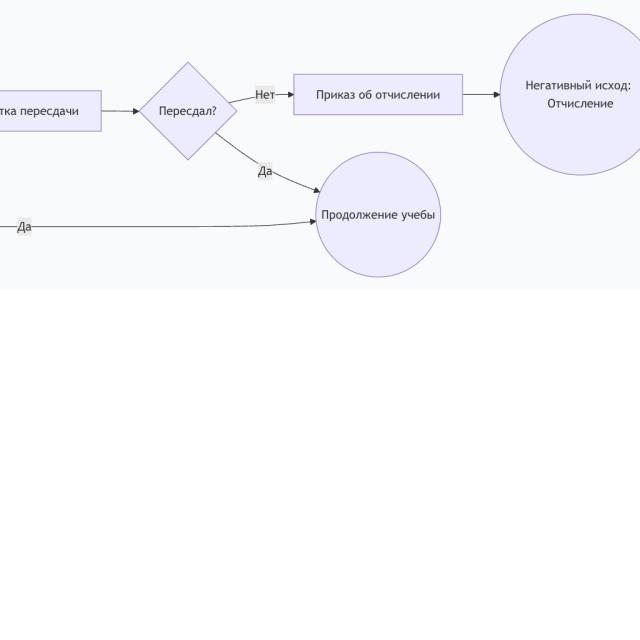arrow: (0, 213, 317, 236), (215, 132, 320, 195), (227, 87, 294, 112), (100, 105, 139, 118), (463, 88, 500, 100)
circle: (312, 149, 442, 282)
diamond: (140, 60, 237, 163)
text_region: (11, 212, 36, 237), (255, 84, 277, 100), (256, 162, 274, 179)
